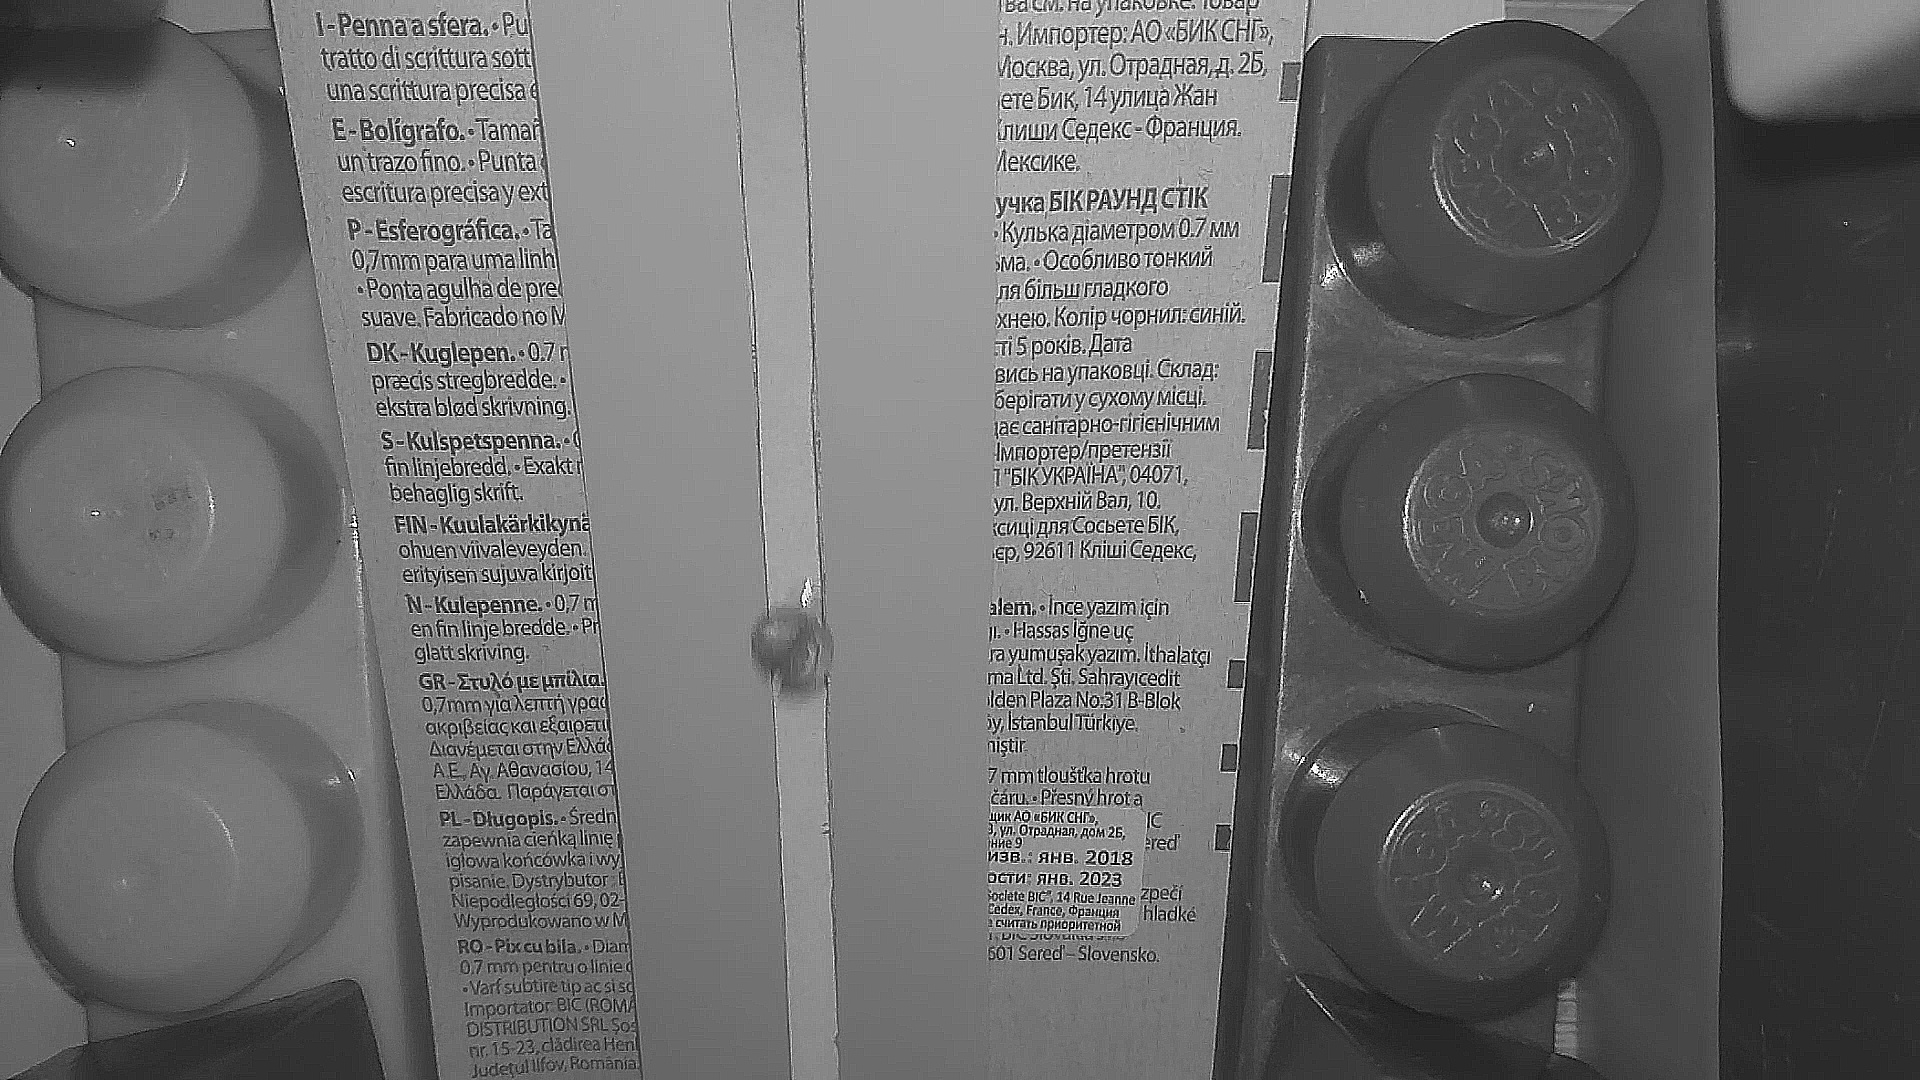i: (753, 607, 831, 688)
